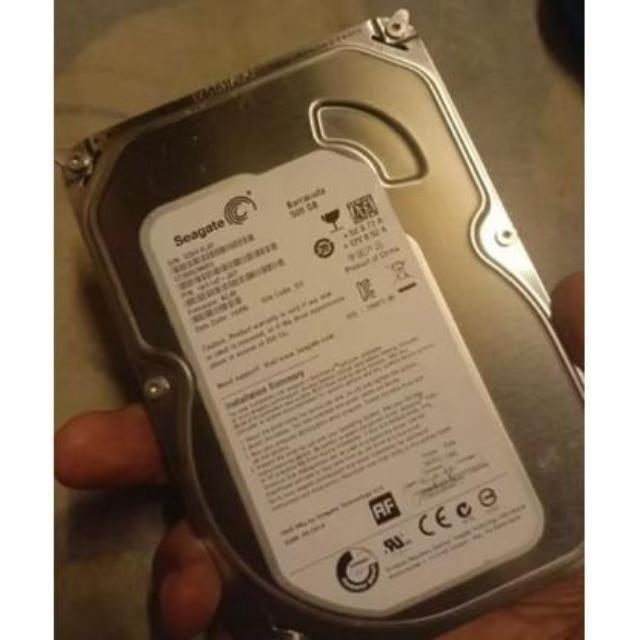DISK: (60, 22, 588, 638)
